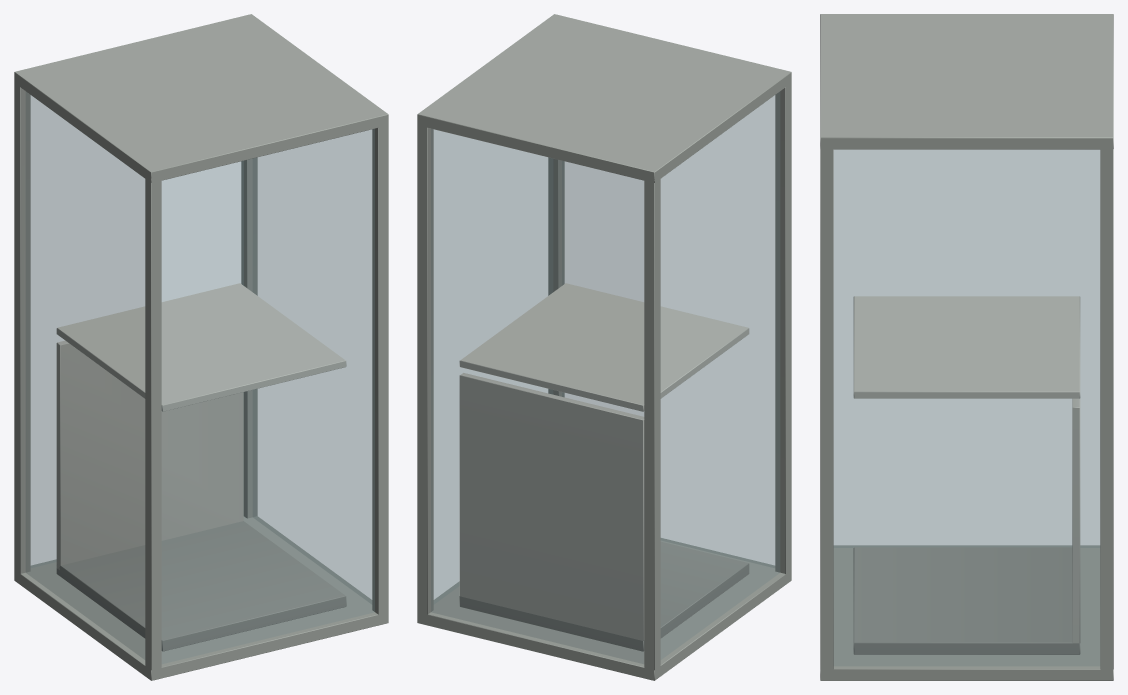
Rendered from ap-elevator-glass.glb.
The picture shows the model from 3 angles, left to right: view 1: azimuth 30°, elevation 25°; view 2: azimuth 150°, elevation 25°; view 3: azimuth 270°, elevation 25°; orthographic projection. The views are drawn at different scales.
Visible parts, largest first — view 1: glass__glass, frame__steel, cab__paint; view 2: glass__glass, frame__steel, cab__paint; view 3: glass__glass, frame__steel, cab__paint.
Boxes of the visible parts, x1=… form: glass__glass: x1=26, y1=92, x2=374, y2=663; frame__steel: x1=14, y1=14, x2=388, y2=680; cab__paint: x1=56, y1=283, x2=346, y2=651; glass__glass: x1=431, y1=92, x2=779, y2=663; frame__steel: x1=417, y1=14, x2=791, y2=680; cab__paint: x1=459, y1=283, x2=749, y2=651; glass__glass: x1=833, y1=149, x2=1100, y2=665; frame__steel: x1=820, y1=14, x2=1113, y2=680; cab__paint: x1=853, y1=296, x2=1080, y2=654.
Size of the model in its own units: 2.2 by 4.5 by 2.2.
